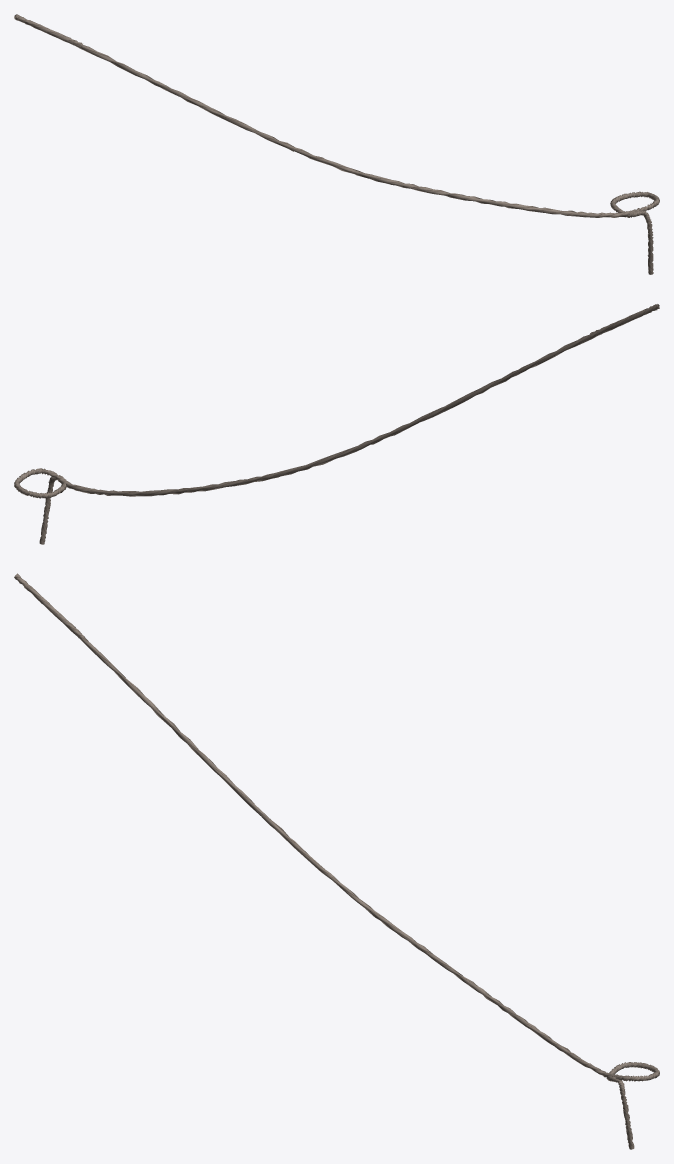
The model's file is SM_RopeSplineMesh_Splines_34.fbx.
3 renders of one model, top to bottom at view 1: azimuth 30°, elevation 25°; view 2: azimuth 150°, elevation 25°; view 3: azimuth 330°, elevation 25°, orthographic. The views are drawn at different scales.
Parts seen in each view (by area): view 1: SM_RopeSplineMesh_Splines_34; view 2: SM_RopeSplineMesh_Splines_34; view 3: SM_RopeSplineMesh_Splines_34.
Boxes of the visible parts, <box> form: SM_RopeSplineMesh_Splines_34: <box>14,14,659,274</box>; SM_RopeSplineMesh_Splines_34: <box>14,304,659,544</box>; SM_RopeSplineMesh_Splines_34: <box>14,573,659,1149</box>.
Size of the model in its own units: 317 by 22.11 by 190.
